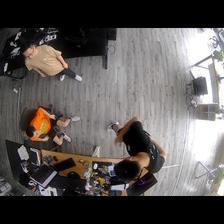normal: (107, 116, 167, 177), (20, 42, 83, 83), (26, 106, 80, 145)
